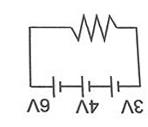resistor: (61, 10, 121, 44)
